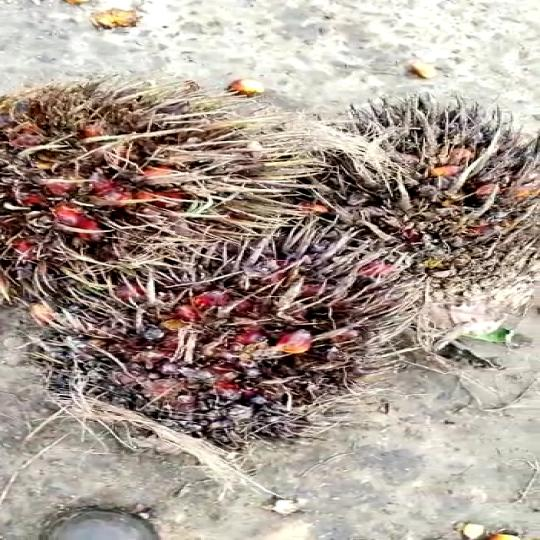terlalu masak: (15, 228, 464, 446), (0, 92, 235, 313), (239, 108, 540, 267)
